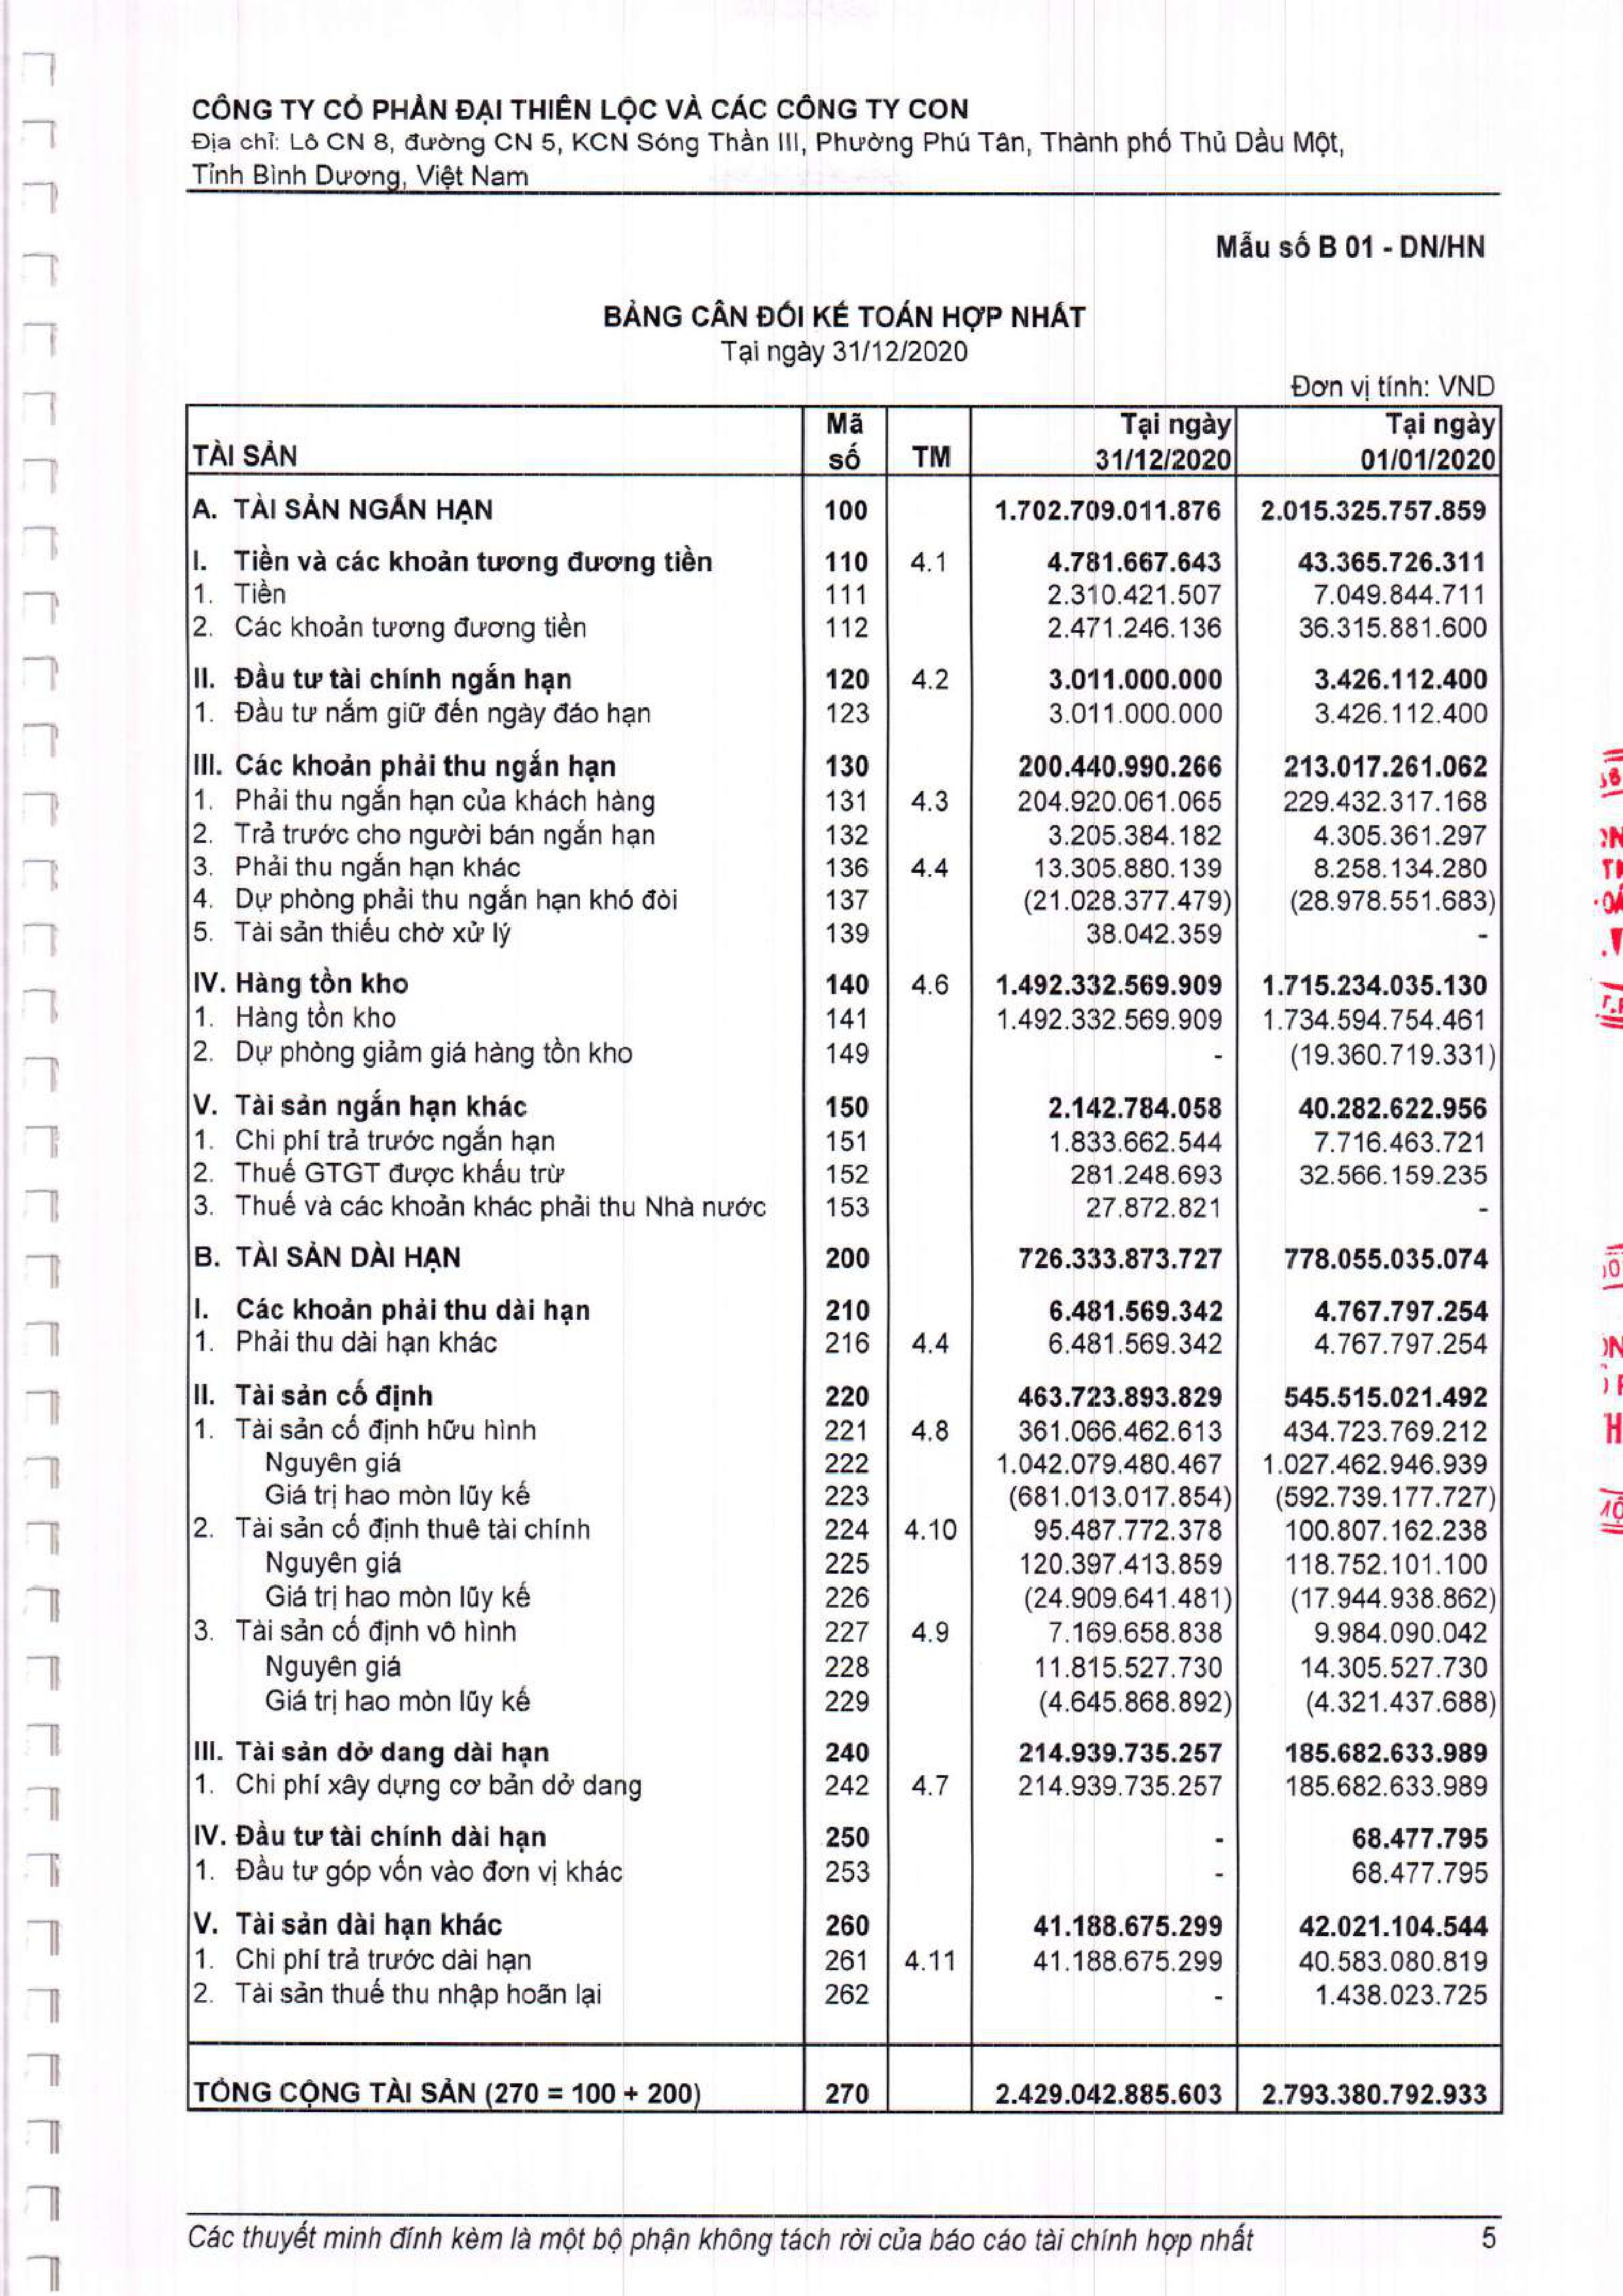table: (170, 400, 1521, 2131)
table column: (188, 404, 780, 2129), (985, 404, 1245, 2126), (1256, 400, 1502, 2129), (811, 404, 885, 2135), (899, 404, 966, 2131)
table column header: (169, 400, 1521, 479)
table row: (169, 411, 1521, 476), (169, 483, 1521, 532), (169, 539, 1523, 576), (170, 1239, 1521, 1276), (170, 781, 1523, 816), (170, 999, 1521, 1034), (170, 1034, 1521, 1069), (170, 1819, 1521, 1854), (170, 1376, 1519, 1411), (170, 1683, 1519, 1718), (170, 1854, 1519, 1889), (170, 1977, 1519, 2012), (172, 2073, 1521, 2108), (169, 576, 1523, 609), (169, 613, 1523, 646), (169, 662, 1523, 695), (169, 697, 1523, 730), (169, 748, 1523, 781), (169, 1088, 1519, 1122), (169, 1294, 1519, 1327), (170, 1478, 1521, 1511), (172, 816, 1521, 850), (170, 1123, 1519, 1157), (170, 1190, 1519, 1223), (170, 1580, 1519, 1613), (170, 1736, 1519, 1769), (169, 916, 1521, 948), (170, 851, 1521, 883), (170, 965, 1521, 997), (170, 1157, 1521, 1188), (170, 1413, 1521, 1445), (170, 1446, 1521, 1478), (170, 1511, 1521, 1543), (170, 1613, 1521, 1645), (170, 1327, 1519, 1359), (170, 1548, 1519, 1580), (170, 1652, 1519, 1683), (170, 1769, 1519, 1801), (170, 1910, 1519, 1941), (170, 1943, 1519, 1975), (169, 885, 1519, 915)
